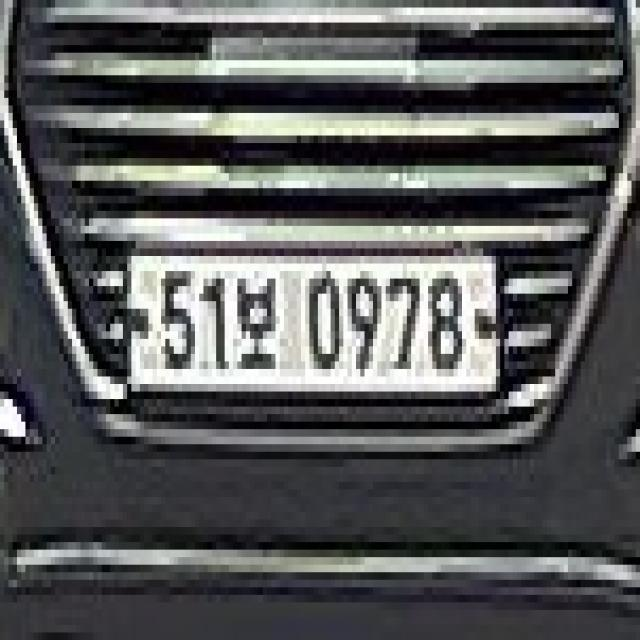0: (301, 268, 342, 374)
1: (200, 266, 232, 372)
5: (158, 264, 196, 370)
7: (385, 268, 423, 377)
8: (427, 268, 465, 376)
9: (346, 266, 380, 378)
bo: (234, 266, 280, 382)
license_plate: (120, 231, 509, 411)
